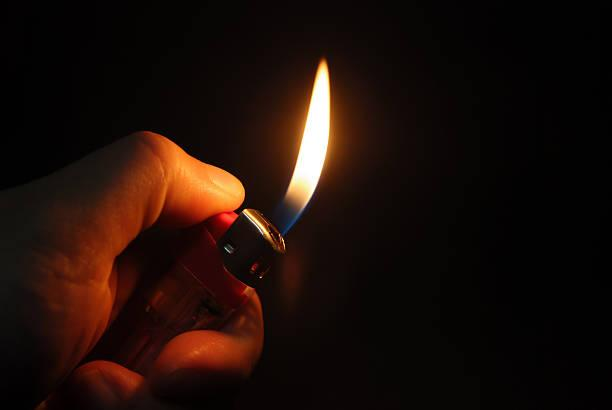Fire: (274, 47, 340, 234)
